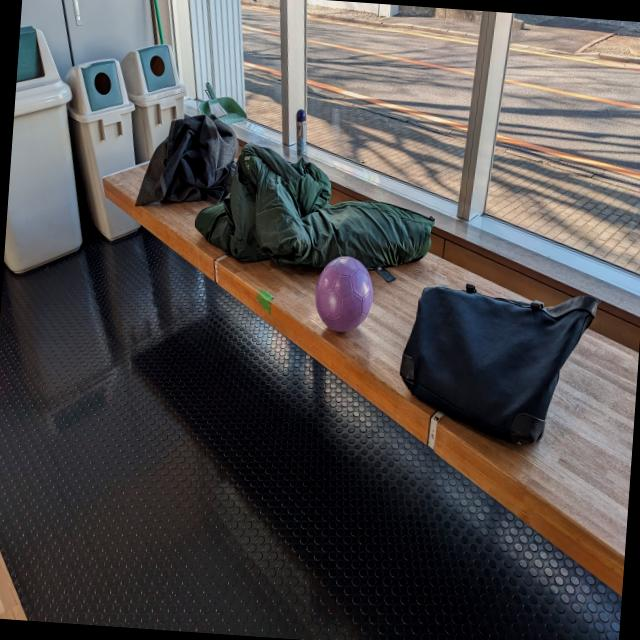purple_ball: (312, 252, 376, 338)
